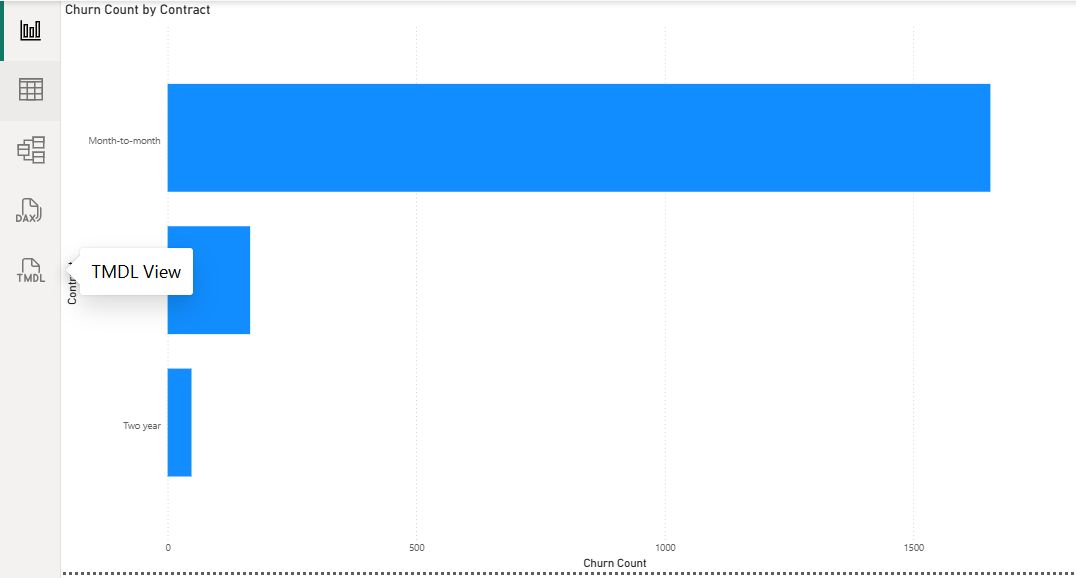

This screenshot's page, from the dashboard's own definition file:
{"tool":"powerbi","page":{"name":"Page 2","canvas":[1280,720],"ordinal":1},"visuals":[{"type":"clusteredBarChart","fields":{"Category":["churn_dashboard_data.Contract"],"Y":["churn_dashboard_data.Churn Count"]},"box":[0,0,1279.4,720],"z":0}]}

Visuals, with their boxes on the page's 1280x720 design canvas (x1, y1, x2, y2). These are canvas units, not pixel positions in the 1076x578 screenshot, which may show the page scaled, cropped or inside an application window:
clusteredBarChart - churn_dashboard_data.Contract x churn_dashboard_data.Churn Count: BBox(0, 0, 1279, 720)
